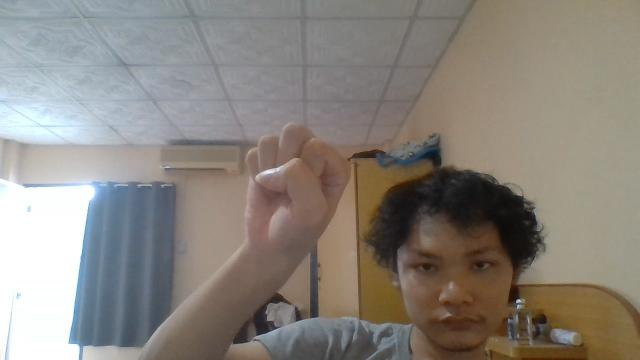forward: (244, 122, 352, 258)
